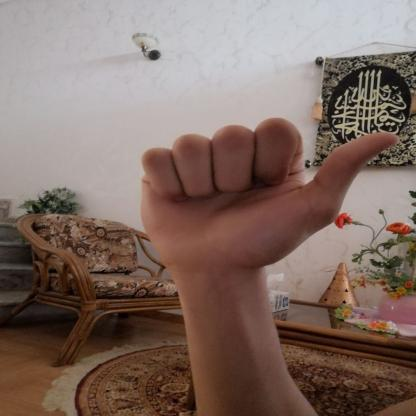DAD: (123, 110, 408, 288)
